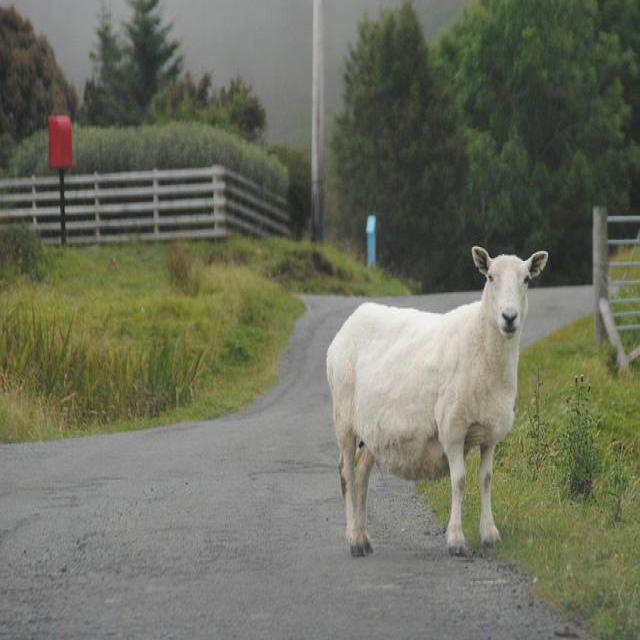Sheep: (325, 247, 549, 559)
